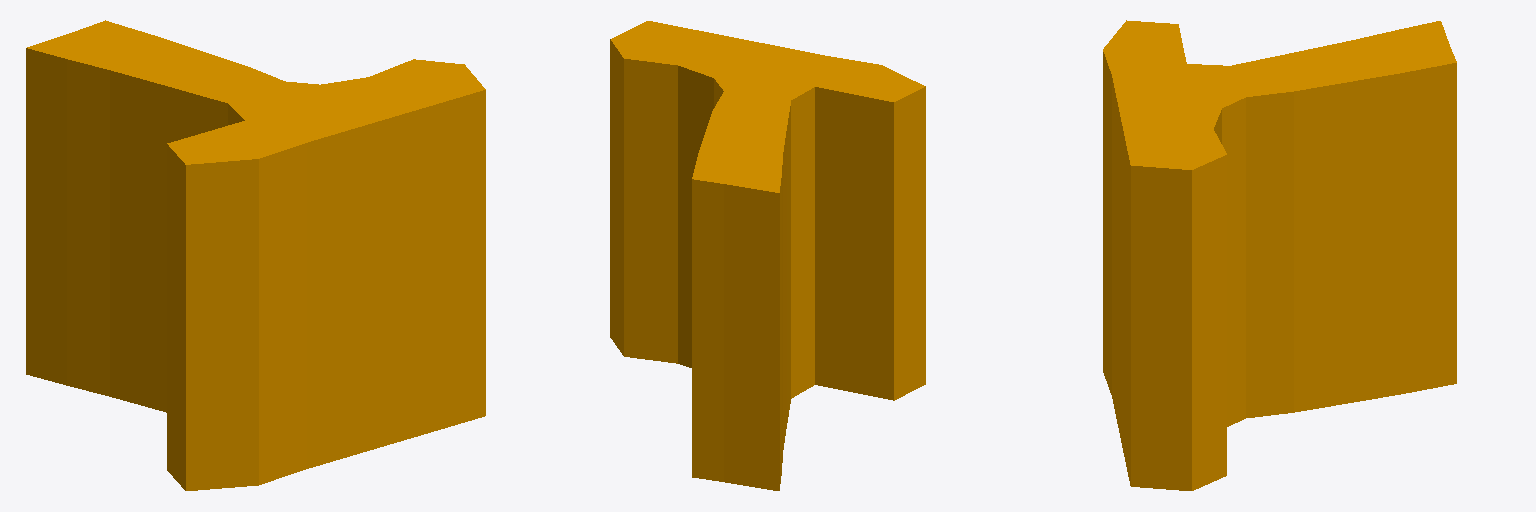
robot.urdf — object:
<?xml version="1.0"?>
<robot name="object">
  <link name="object">
    <visual>
      <origin xyz="0 0 0"/>
      <geometry>
        <mesh filename="meshes/polygon/poly_22_s.obj" scale=".03 .03 .03"/>
      </geometry>
    </visual>
    <collision>
  <origin xyz="0 0 0"/>
  <geometry>
    <mesh filename="meshes/polygon/poly_22_s_0decompose.obj" scale=".03 .03 .03"/>
<!--          <mesh filename="meshes/custom/obj0_ball.obj" scale=".05 .05 .05"/>-->
  </geometry>
</collision><collision>
  <origin xyz="0 0 0"/>
  <geometry>
    <mesh filename="meshes/polygon/poly_22_s_1decompose.obj" scale=".03 .03 .03"/>
<!--          <mesh filename="meshes/custom/obj0_ball.obj" scale=".05 .05 .05"/>-->
  </geometry>
</collision>

<!--    <collision>-->
<!--      <origin xyz="0 0 0"/>-->
<!--      <geometry>-->
<!--        <mesh filename="meshes/polygon/poly_22_s.obj" scale=".03 .03 .03"/>-->
<!--&lt;!&ndash;          <mesh filename="meshes/custom/obj0_ball.obj" scale=".05 .05 .05"/>&ndash;&gt;-->
<!--      </geometry>-->
<!--    </collision>-->
    <inertial>
      <density value="1000.0"/>
    </inertial>
  </link>
</robot>

--- What the picture shows (computed from the rendered views, not written in the file) ---
3 views of the same robot in one strip: view 1: azimuth 30°, elevation 25°; view 2: azimuth 150°, elevation 25°; view 3: azimuth 270°, elevation 25° (orthographic).
Robot: object — 1 links, 0 joints (none); root link object; default pose: every joint at zero.
Visible links, largest first — view 1: object; view 2: object; view 3: object.
Boxes of the visible links, x1=… form: object: x1=26, y1=20, x2=485, y2=490; object: x1=610, y1=21, x2=925, y2=490; object: x1=1103, y1=20, x2=1456, y2=490.
Bounding box of the posed robot: 0.06 × 0.06 × 0.06 m (x, y, z).
1 mesh visuals loaded from 1 distinct referenced files (1 OBJ).
